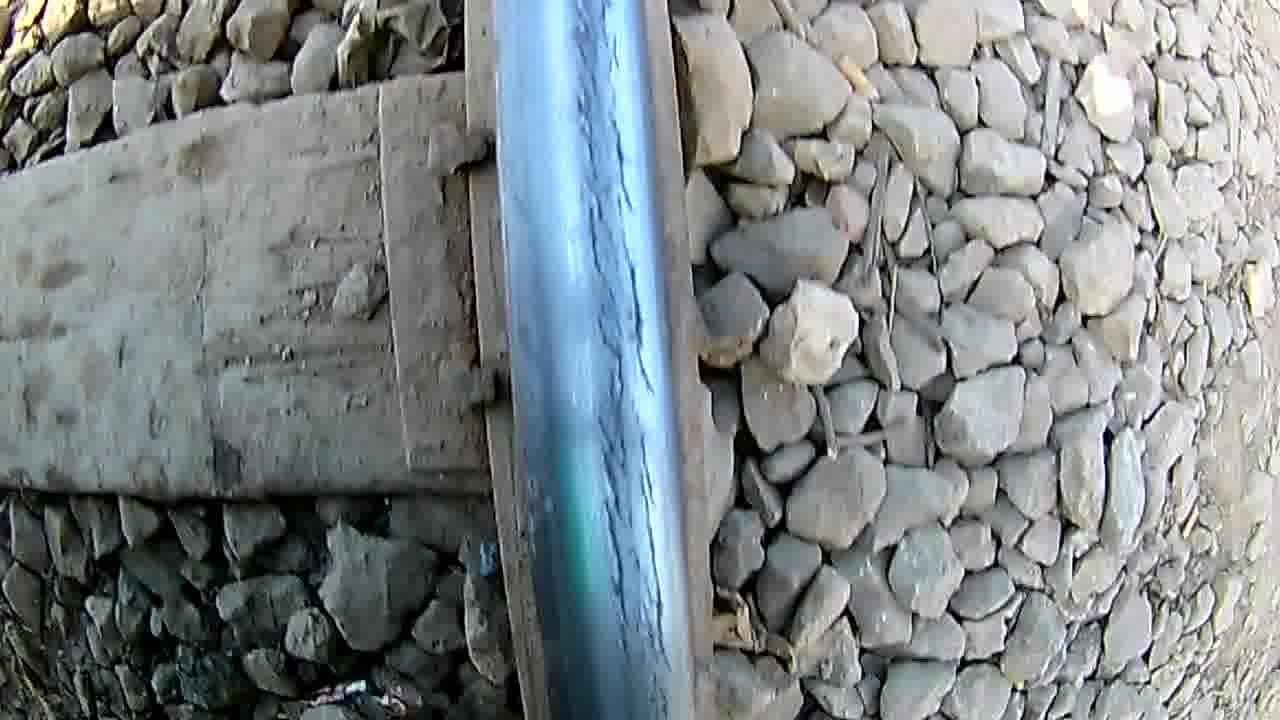crack: (546, 3, 672, 720)
